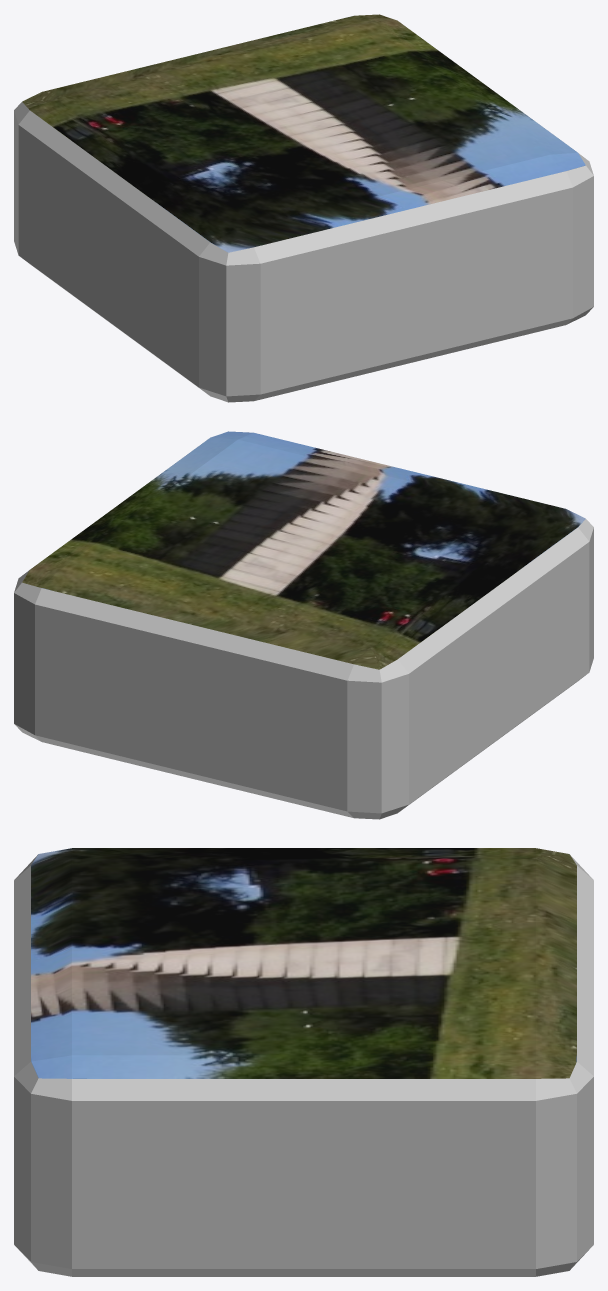
The model's file is peça16.obj.
3 views of the same model, one above another, from view 1: azimuth 30°, elevation 25°; view 2: azimuth 150°, elevation 25°; view 3: azimuth 270°, elevation 25° (orthographic). The views are drawn at different scales.
Visible parts, largest first — view 1: Cubo.006; view 2: Cubo.006; view 3: Cubo.006.
Boxes of the visible parts, <box> form: Cubo.006: <box>14,14,593,402</box>; Cubo.006: <box>14,431,593,819</box>; Cubo.006: <box>14,848,593,1276</box>.
Bounding box in the file's own units: 0.5 × 0.2 × 0.5.
